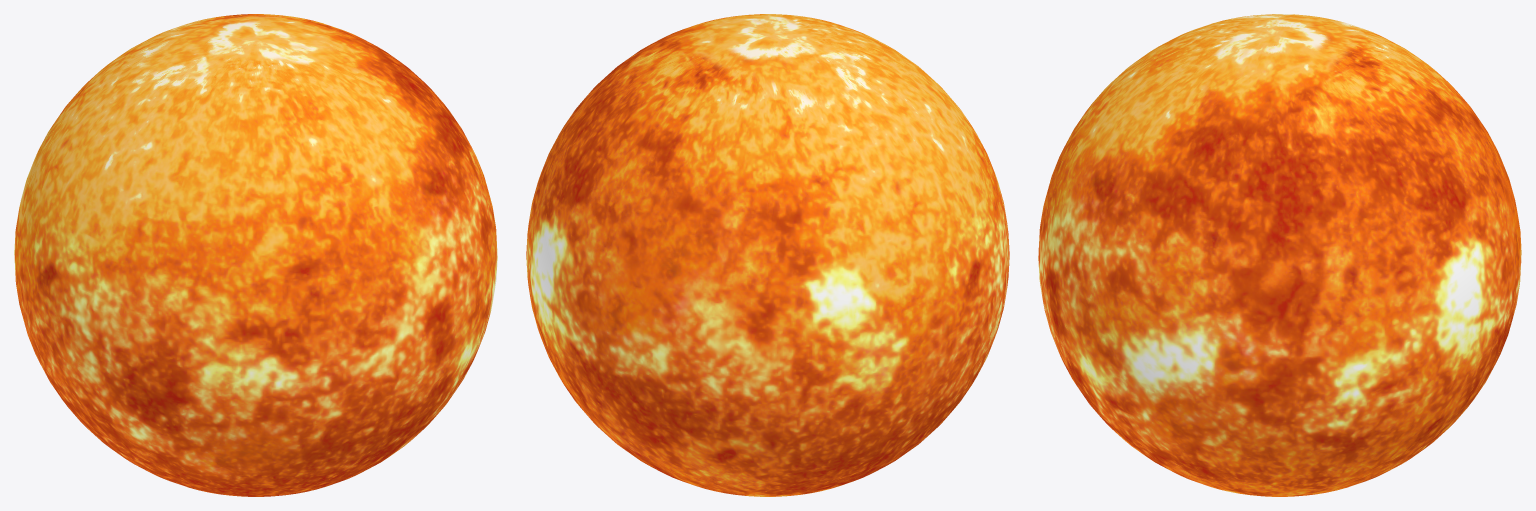
File: sun.glb
3 renders of one model, left to right at view 1: azimuth 30°, elevation 25°; view 2: azimuth 150°, elevation 25°; view 3: azimuth 270°, elevation 25°, orthographic.
Visible parts, largest first — view 1: sun; view 2: sun; view 3: sun.
Boxes of the visible parts, box(x1,y1,x2,y2) form: sun: box(14, 14, 497, 496); sun: box(526, 14, 1009, 496); sun: box(1038, 14, 1521, 496).
Bounding box in the file's own units: 11.99 × 11.99 × 11.99.
1 material, 1 textured.
